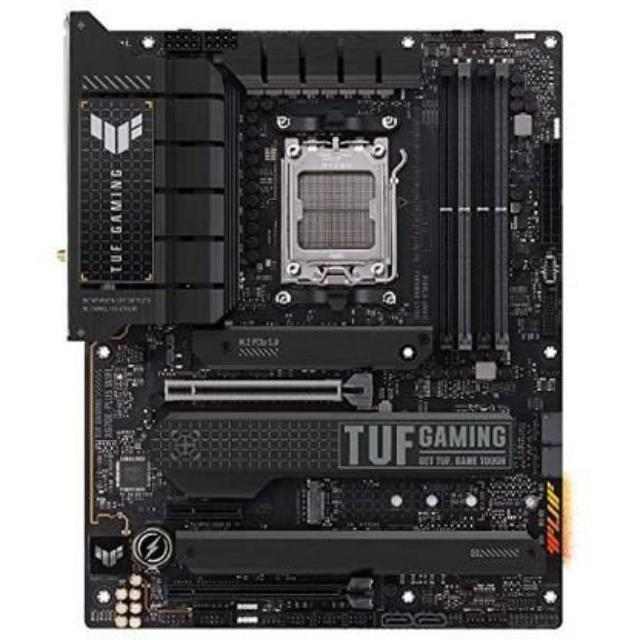Mainboard: (50, 8, 579, 634)
